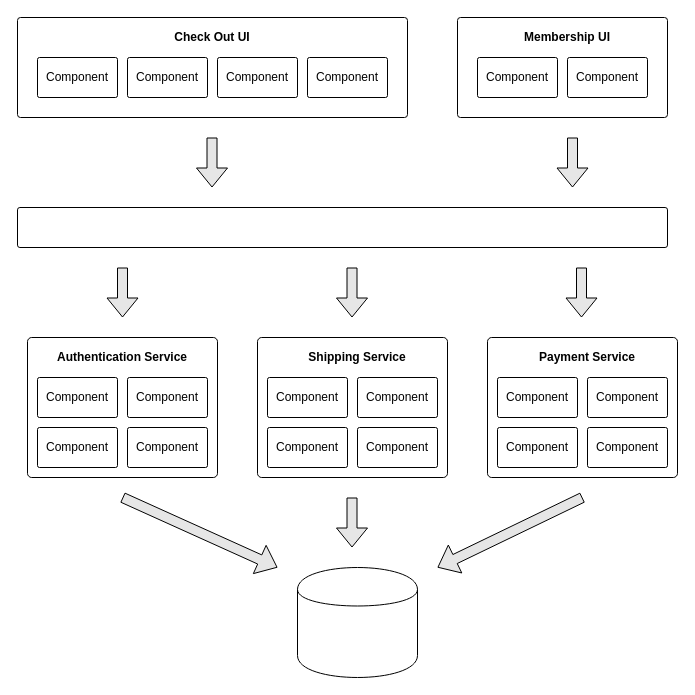
This 695x695 diagram has some shape labels left out. The shapes that lost their labels are listed below. From the top down, each one's box as (x1, y1, x2, y2) in pixels, then its label:
(16, 206, 668, 248): Proxy or Gateway Layer
(296, 566, 418, 678): Centralized Database
